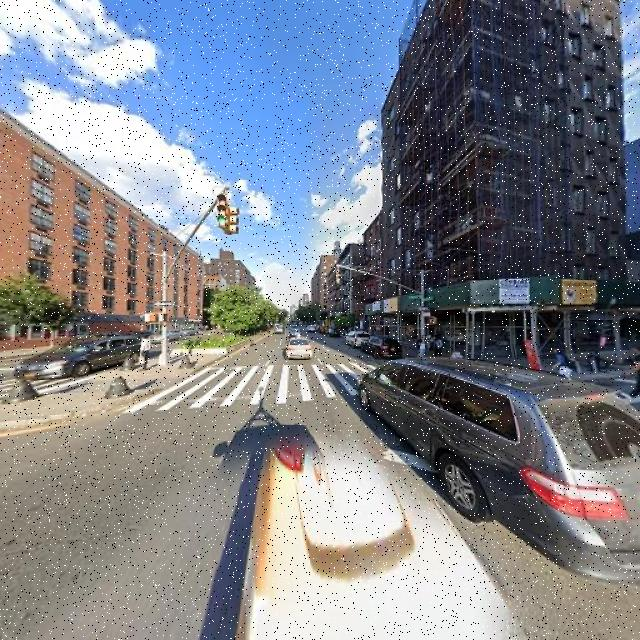Building: (385, 1, 615, 359), (1, 107, 204, 349)
